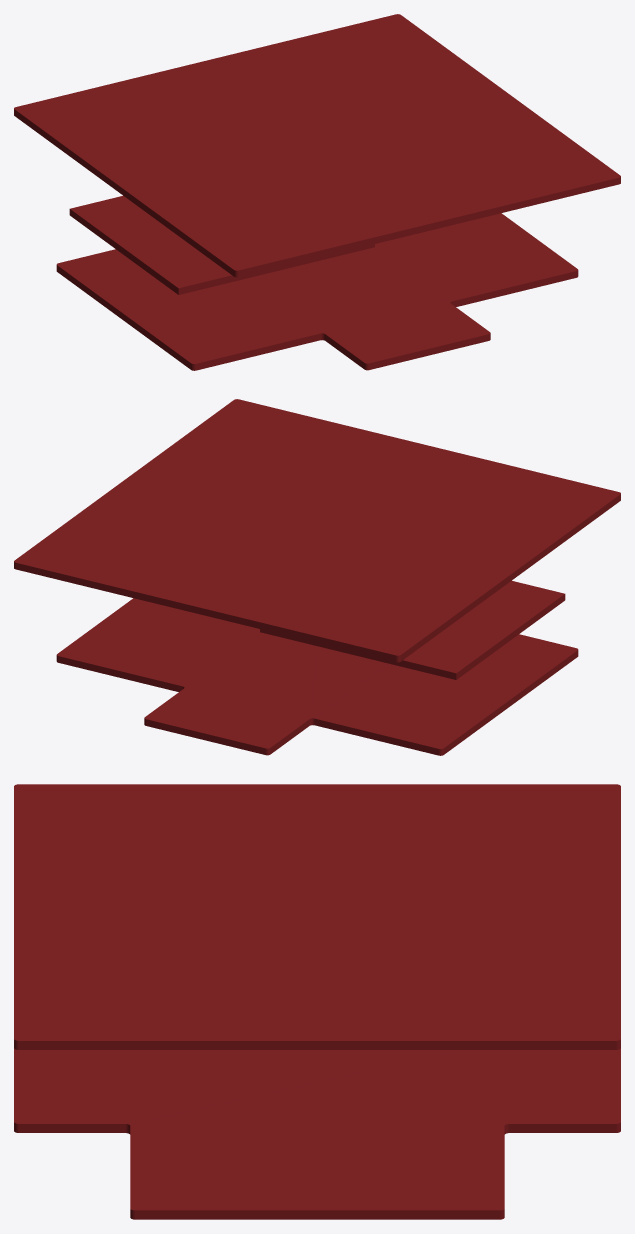
File: b_Top_Plate_001_.dae
3 views of the same model, one above another, from view 1: azimuth 30°, elevation 25°; view 2: azimuth 150°, elevation 25°; view 3: azimuth 270°, elevation 25° (orthographic). The views are drawn at different scales.
Parts seen in each view (by area): view 1: tmp_export_b_Top_Plate_001_; view 2: tmp_export_b_Top_Plate_001_; view 3: tmp_export_b_Top_Plate_001_.
Boxes of the visible parts, x1,y1,x2,y2 form: tmp_export_b_Top_Plate_001_: (14,14,620,370); tmp_export_b_Top_Plate_001_: (14,399,620,755); tmp_export_b_Top_Plate_001_: (14,784,620,1219).
Bounding box in the file's own units: 0.24 × 0.24 × 0.078.
